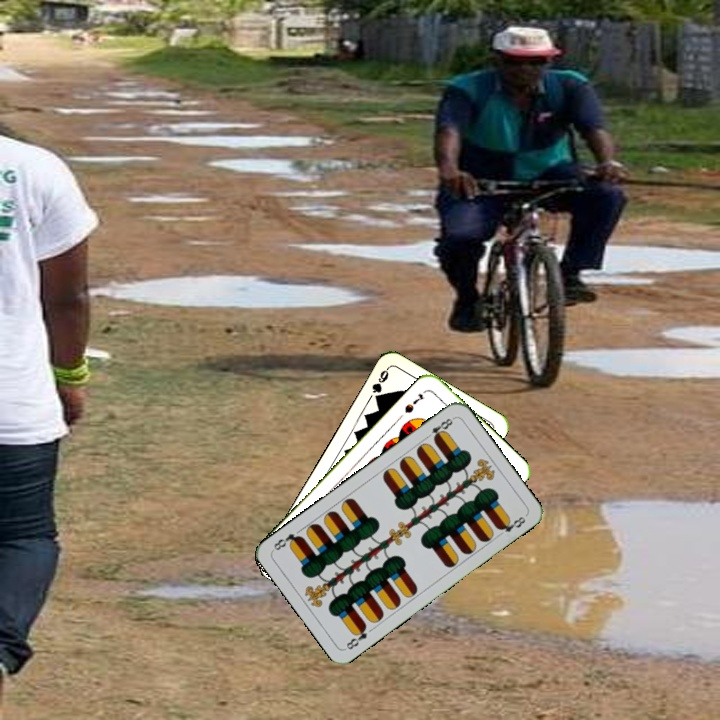E8: (421, 414, 457, 443), (342, 621, 370, 652)
G9: (368, 364, 391, 404)
S7: (400, 390, 427, 416)
